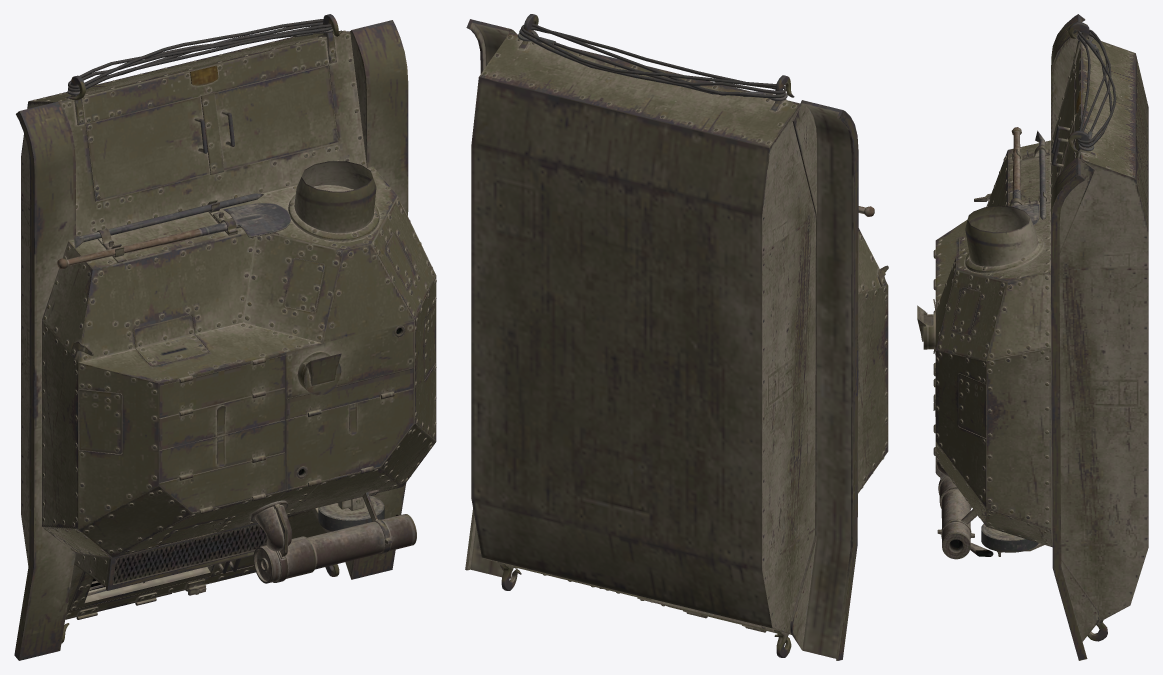
Rendered from Hull.glb.
3 renders of one model, left to right at view 1: azimuth 30°, elevation 25°; view 2: azimuth 150°, elevation 25°; view 3: azimuth 270°, elevation 25°, orthographic. The views are drawn at different scales.
Parts seen in each view (by area): view 1: set_0_group_0; view 2: set_0_group_0; view 3: set_0_group_0.
Part boxes in pixels (x1,y1,x2,y2): set_0_group_0: (14,14,436,660); set_0_group_0: (465,14,888,660); set_0_group_0: (917,14,1148,660).
Bounding box in the file's own units: 1.76 × 2.57 × 1.07.
1 material, 1 textured.
